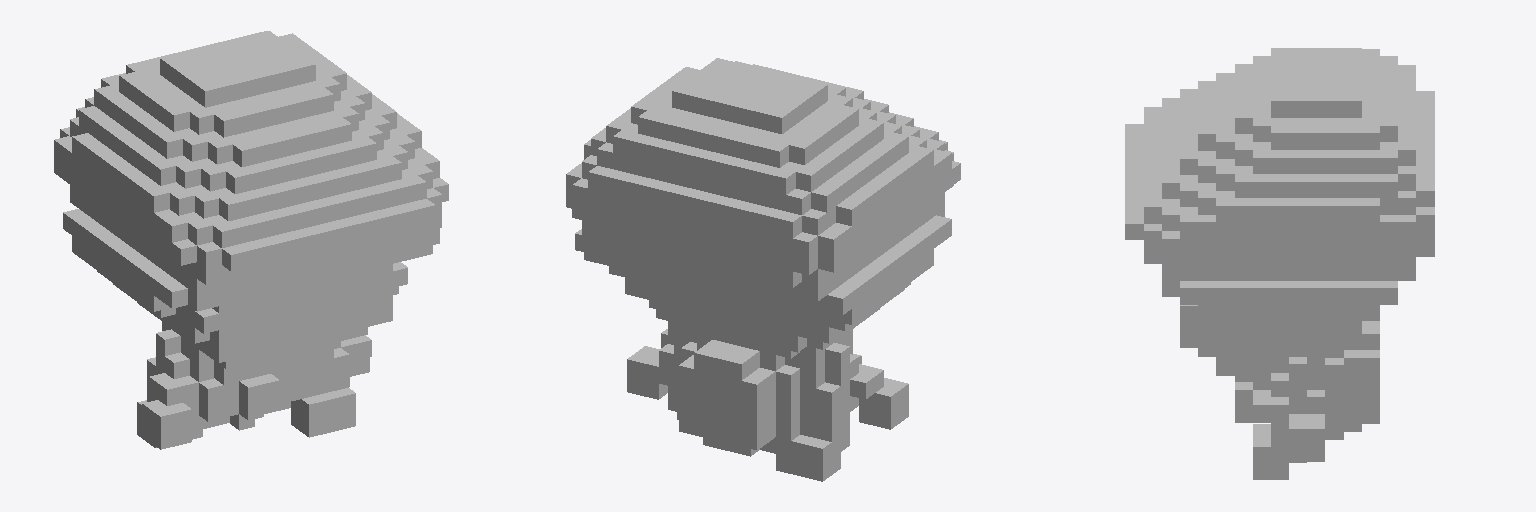
Rendered from lucas-walk.obj.
The picture shows the model from 3 angles: view 1: azimuth 30°, elevation 25°; view 2: azimuth 150°, elevation 25°; view 3: azimuth 270°, elevation 25°; orthographic projection.
Parts seen in each view (by area): view 1: Untitled_palette; view 2: Untitled_palette; view 3: Untitled_palette.
Boxes of the visible parts, box(x1,y1,x2,y2) form: Untitled_palette: box(54, 31, 448, 449); Untitled_palette: box(566, 58, 960, 481); Untitled_palette: box(1125, 48, 1434, 479).
Bounding box in the file's own units: 1.7 × 2.2 × 1.7.